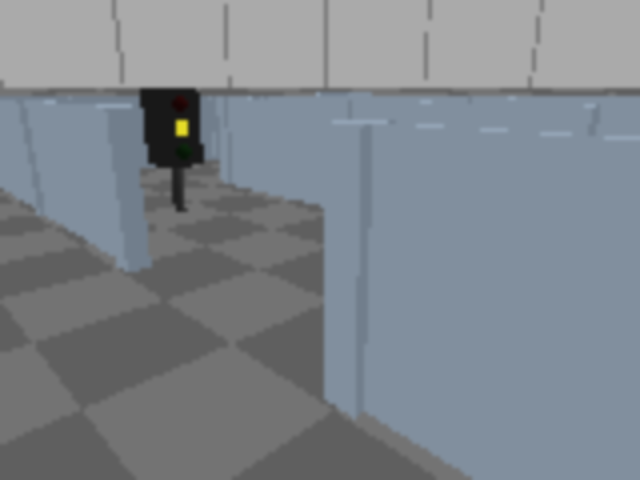traffic_light: (139, 81, 207, 218)
